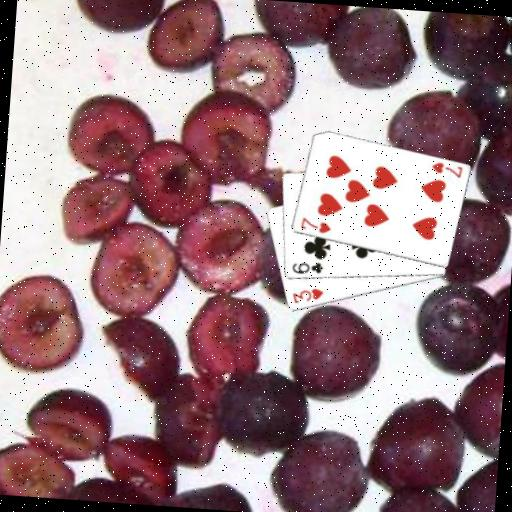3H: (289, 284, 325, 307)
6C: (289, 258, 325, 277)
7H: (297, 215, 333, 236), (429, 159, 465, 180)
